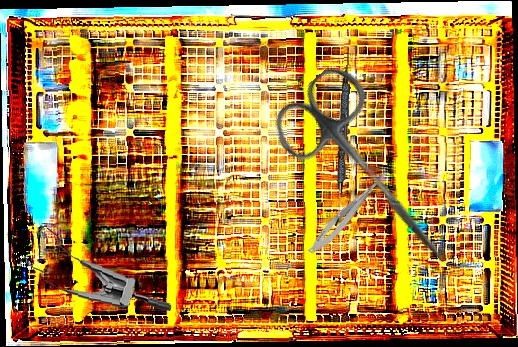Iris Scissors: (261, 57, 485, 293)
Micro Scissor: (305, 161, 395, 259)
Spatula Surgical: (334, 47, 352, 227)
Speculum: (14, 222, 179, 314)
